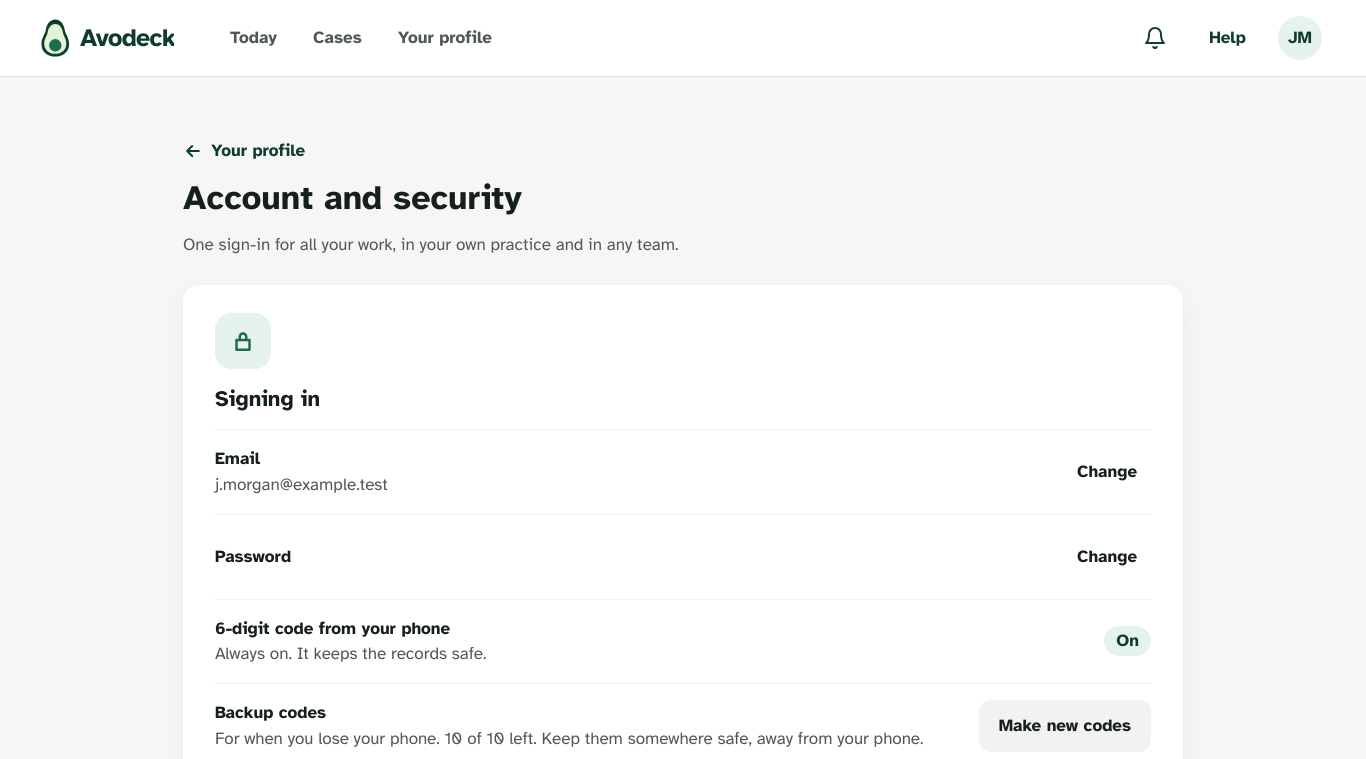
Test: making new backup codes shows them once
This screenshot has width=1366, height=759.
Click the button "Make new codes" at [1065, 726], box [979,700,1151,752]
(page scrolled)
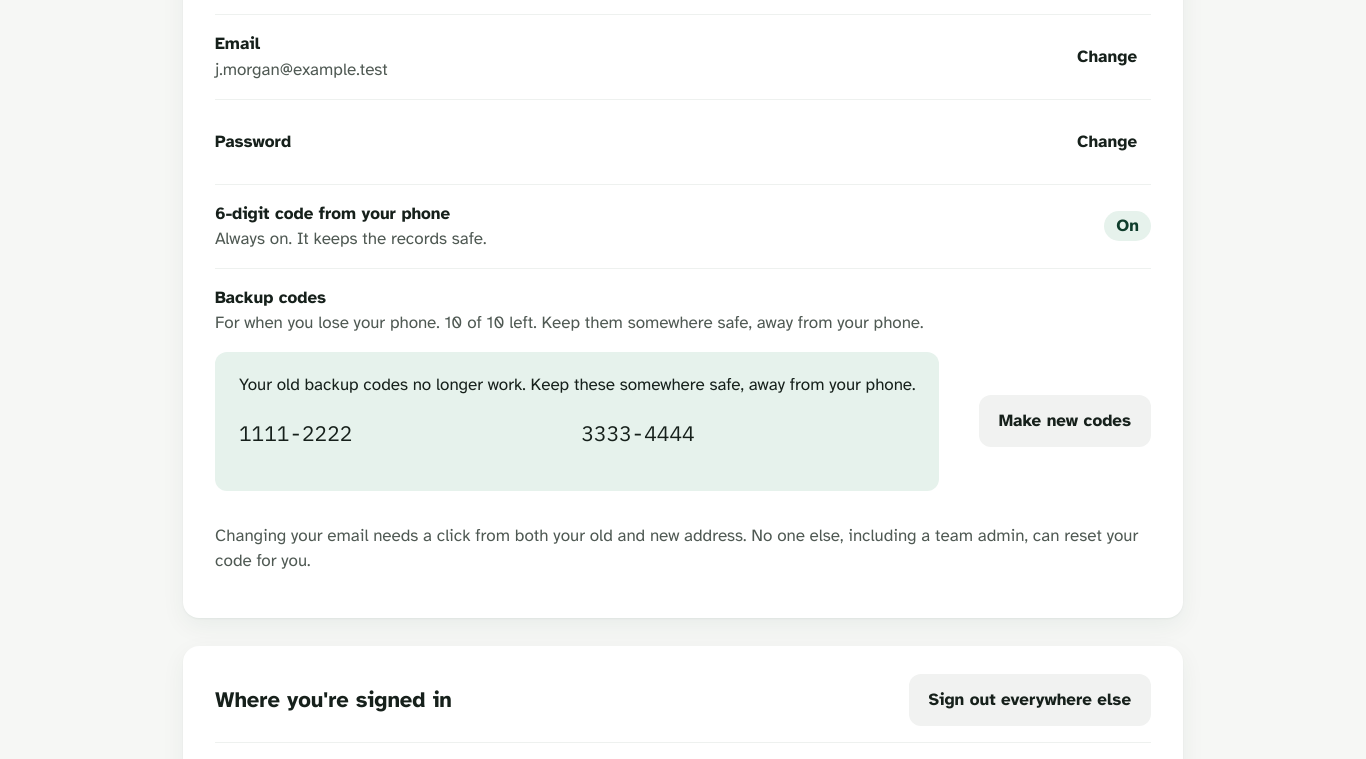
Expected: the list item "1111-2222" is shown, [239,419,352,447]
Expected: the text "Your old backup codes no longer work. Keep these somewhere safe, away from your phone." is shown, [239,374,915,394]
